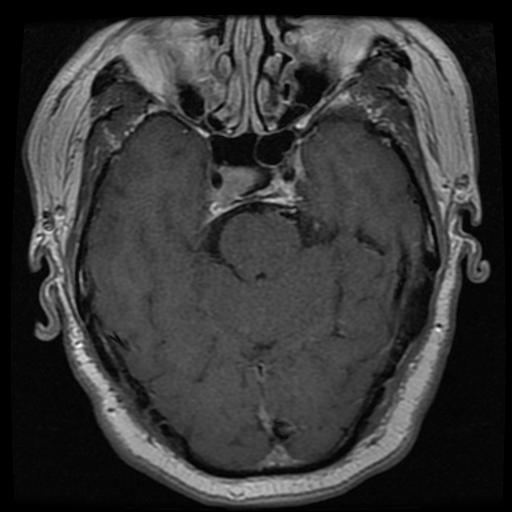Pituirity_tumour: (211, 164, 256, 213)
